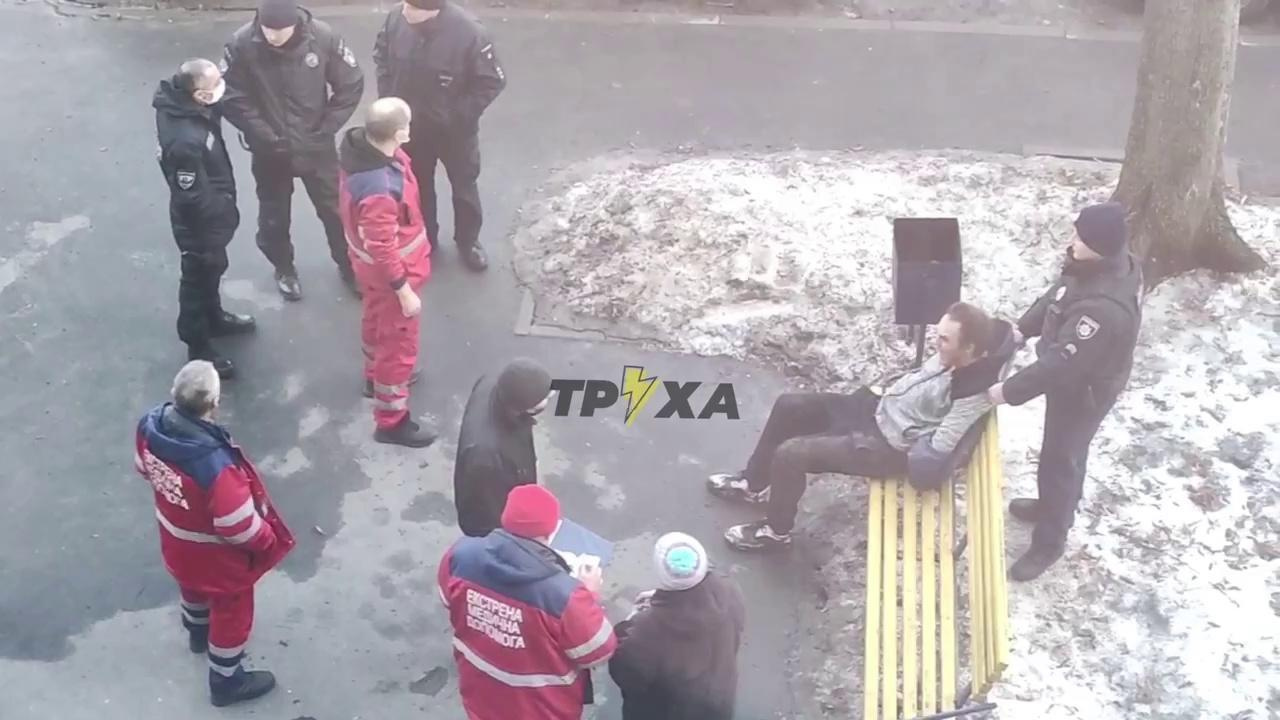person: (710, 301, 1020, 556), (132, 360, 300, 709), (990, 203, 1145, 581), (214, 0, 367, 303), (434, 483, 622, 720), (332, 96, 442, 448), (372, 0, 508, 272), (153, 55, 256, 380), (610, 532, 746, 720), (450, 359, 558, 537)
